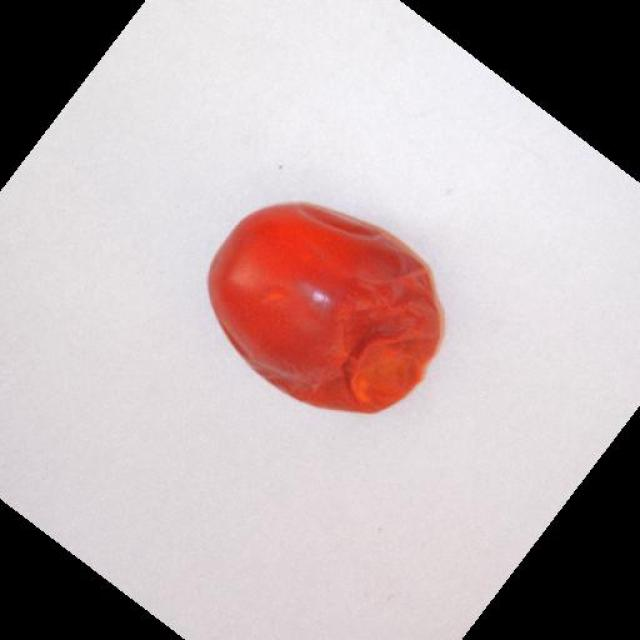Stale_tomato: (209, 171, 438, 427)
